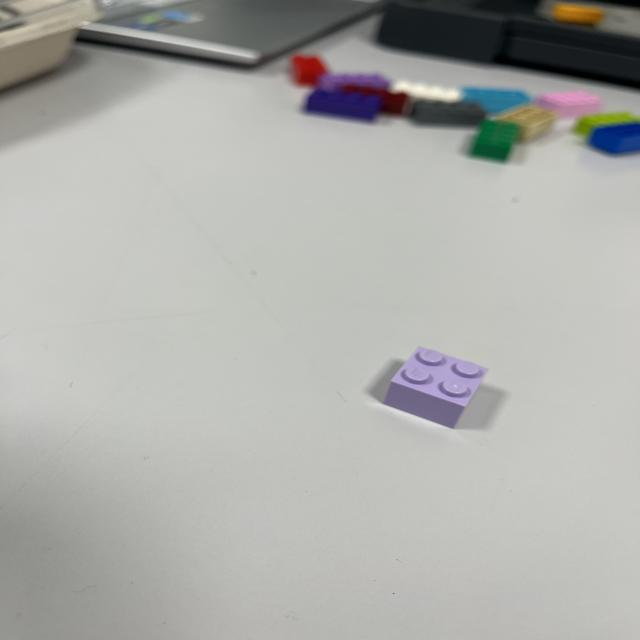C2x2x1: (385, 344, 492, 426)
